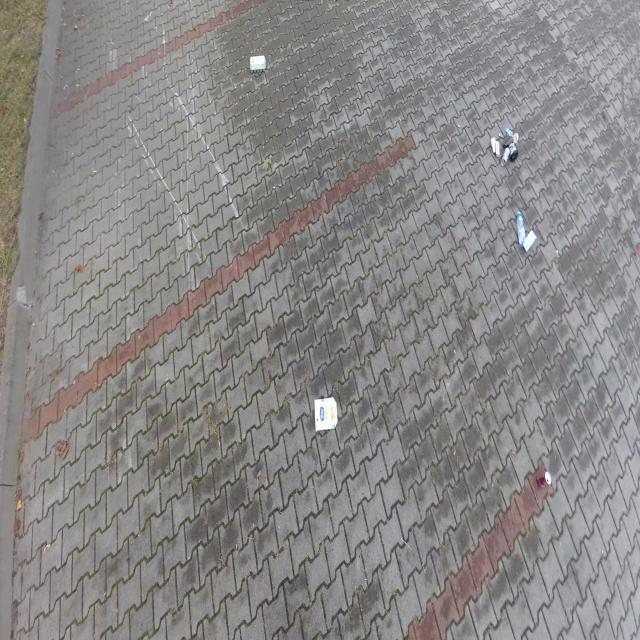rubbish: (314, 398, 338, 434), (521, 229, 537, 254), (515, 212, 526, 246), (249, 55, 267, 75), (503, 130, 519, 148), (537, 472, 551, 489), (500, 147, 510, 166), (491, 136, 500, 155), (510, 142, 518, 163), (505, 128, 513, 138), (498, 131, 500, 137)
